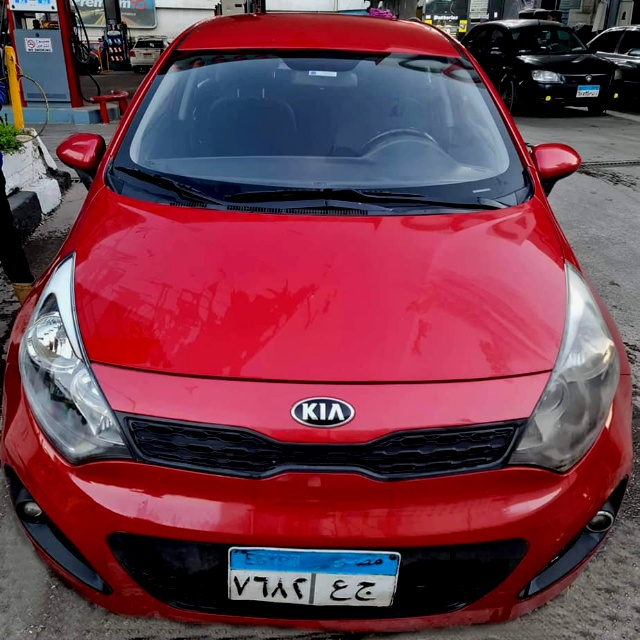License Plate: (225, 546, 402, 609)
